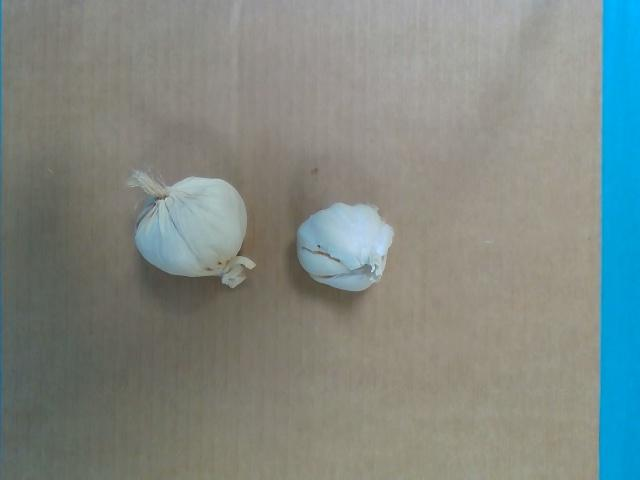garlic: (133, 173, 253, 290), (295, 201, 390, 291)
